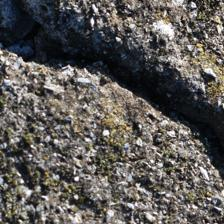Crack: (10, 7, 210, 164)
